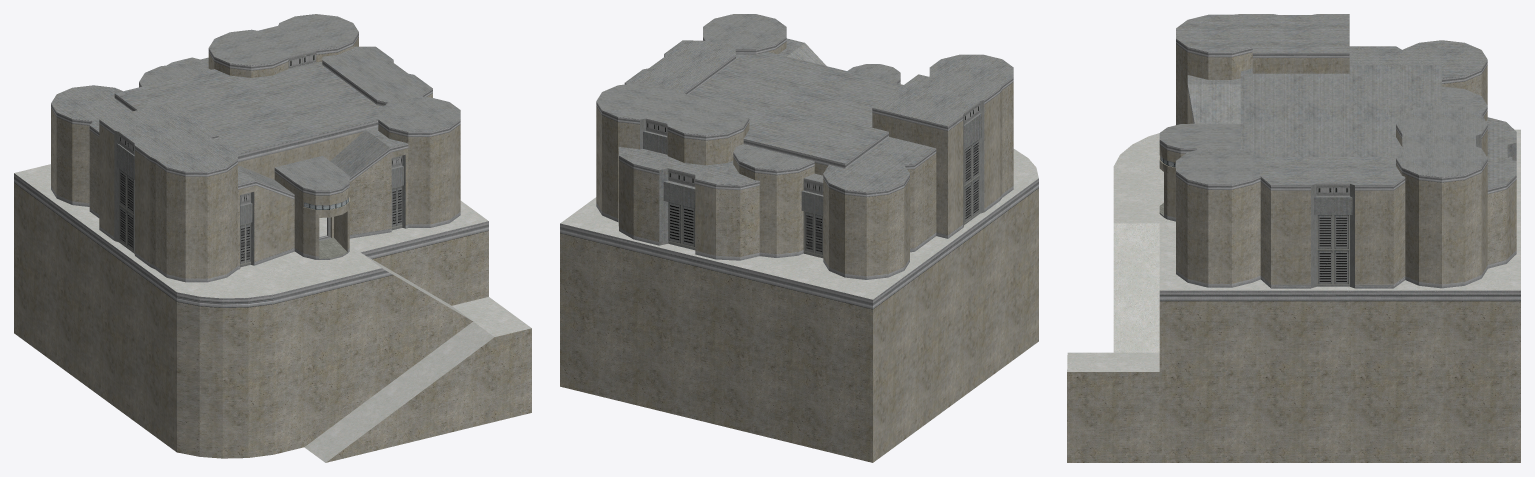
File: ply_all_house_lg_s01_fp1_r0_mesh_l1.fbx
3 views of the same model, side by side, from view 1: azimuth 30°, elevation 25°; view 2: azimuth 150°, elevation 25°; view 3: azimuth 270°, elevation 25° (orthographic). The views are drawn at different scales.
Visible parts, largest first — view 1: mesh_node; view 2: mesh_node; view 3: mesh_node.
Boxes of the visible parts, x1=… form: mesh_node: x1=14, y1=14, x2=531, y2=462; mesh_node: x1=560, y1=14, x2=1038, y2=462; mesh_node: x1=1067, y1=14, x2=1520, y2=462.
Bounding box in the file's own units: 33.08 × 27.88 × 39.4.
